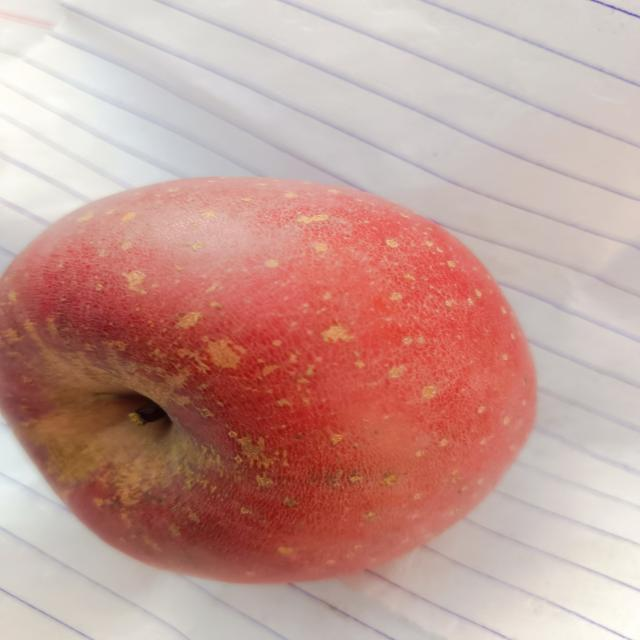Fresh Apple: (5, 182, 535, 590)
